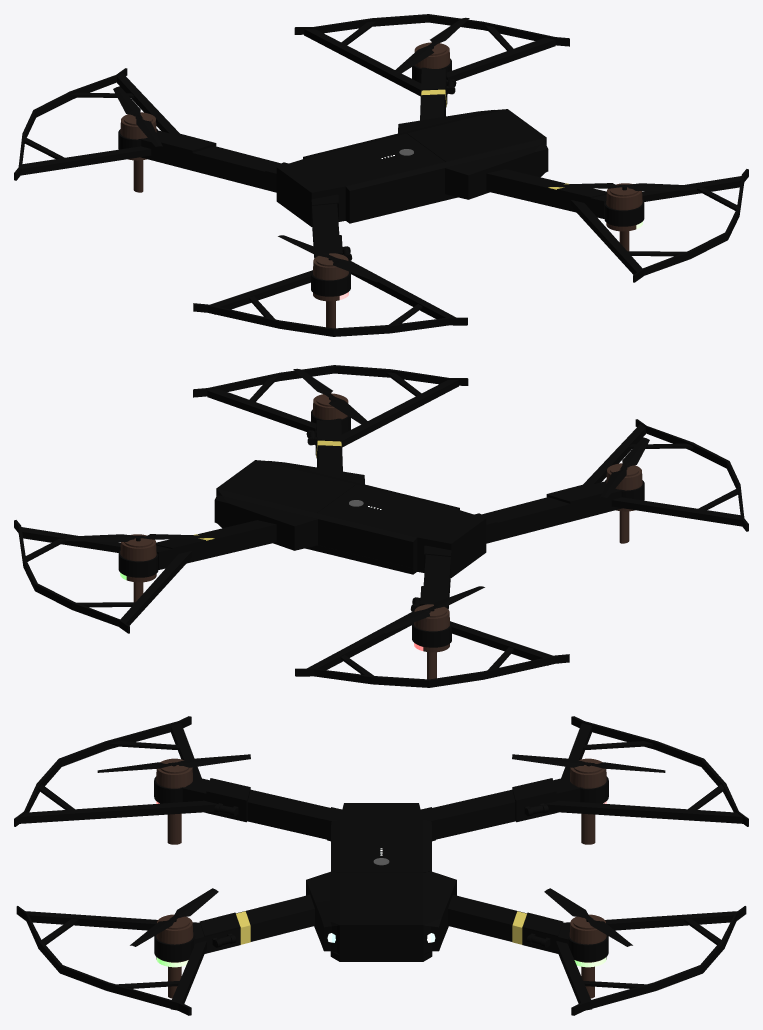
The model's file is drone.glb.
The picture shows the model from 3 angles, top to bottom: view 1: azimuth 30°, elevation 25°; view 2: azimuth 150°, elevation 25°; view 3: azimuth 270°, elevation 25°; orthographic projection. The views are drawn at different scales.
Visible parts, largest first — view 1: Cube.030; view 2: Cube.030; view 3: Cube.030.
Boxes of the visible parts, x1=… form: Cube.030: x1=14, y1=14, x2=748, y2=336; Cube.030: x1=14, y1=365, x2=748, y2=687; Cube.030: x1=14, y1=716, x2=748, y2=1015.
Bounding box in the file's own units: 10.93 × 1.38 × 11.65.
